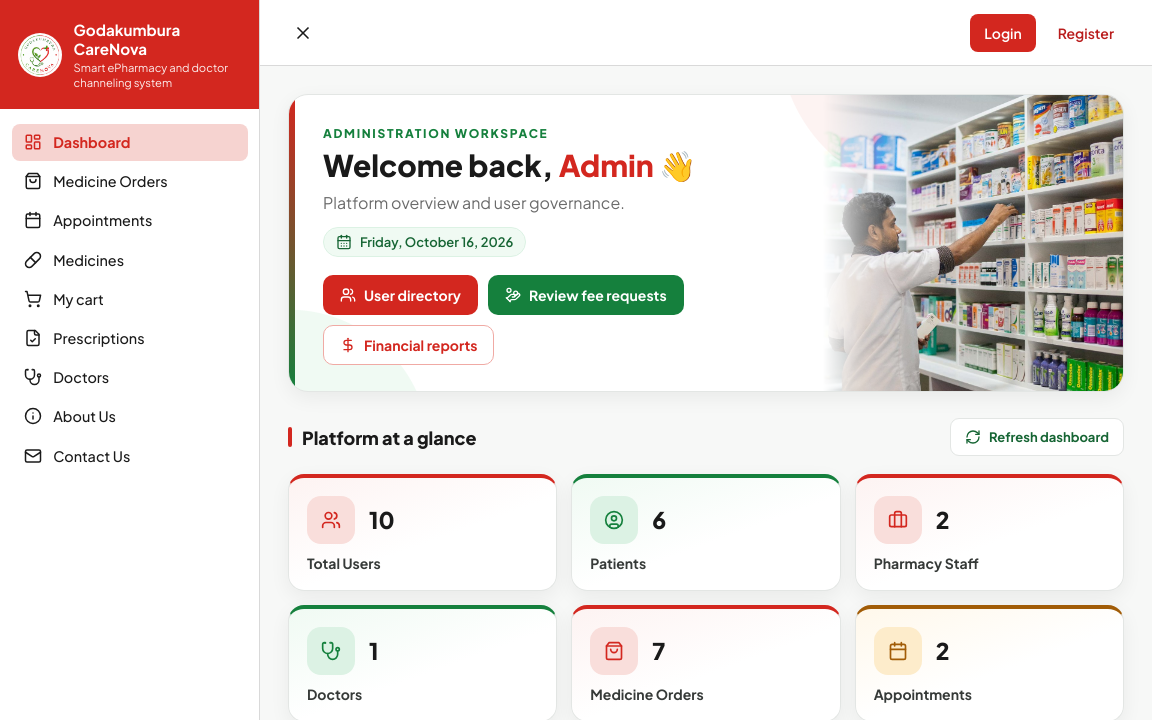
Test: retains labelled stale data after refresh failure and warns about undated income
This screenshot has width=1152, height=720.
Click the button "Refresh dashboard" at (1037, 437), box x1=950 y1=418 x2=1124 y2=456
(page scrolled)
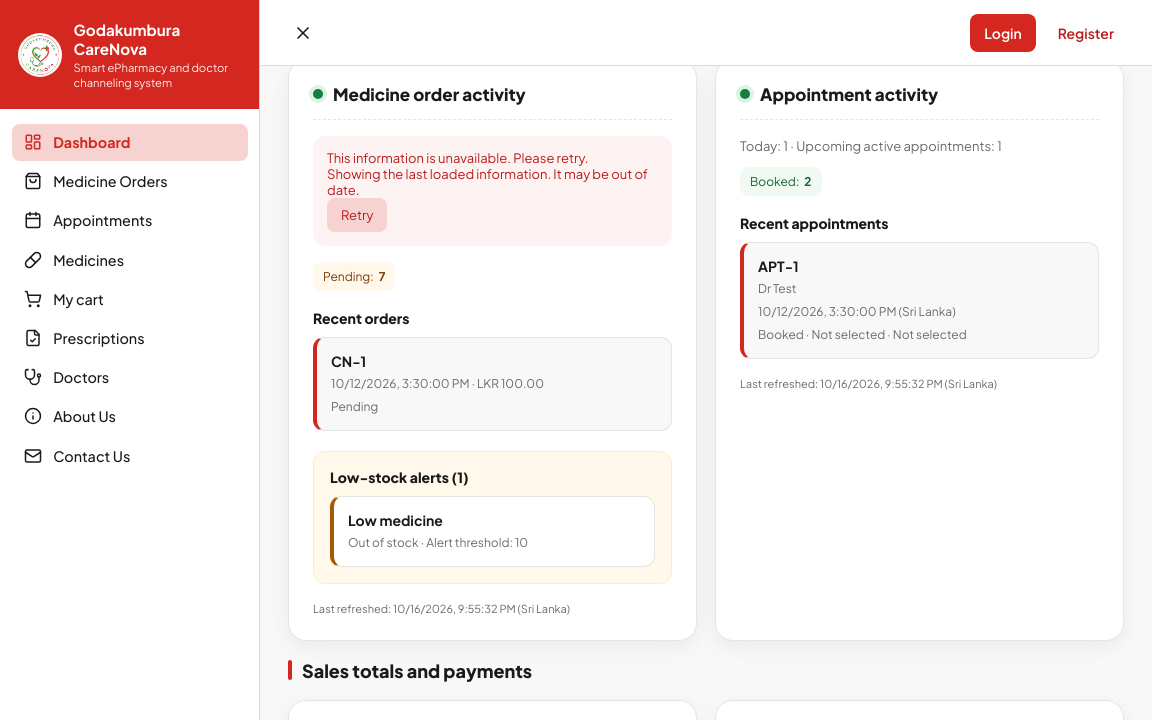
Expected: the text "CN-1" is shown, x1=331 y1=352 x2=366 y2=370
Expected: the text "Showing the last loaded information. It may be out of date." is shown, x1=327 y1=166 x2=658 y2=198
